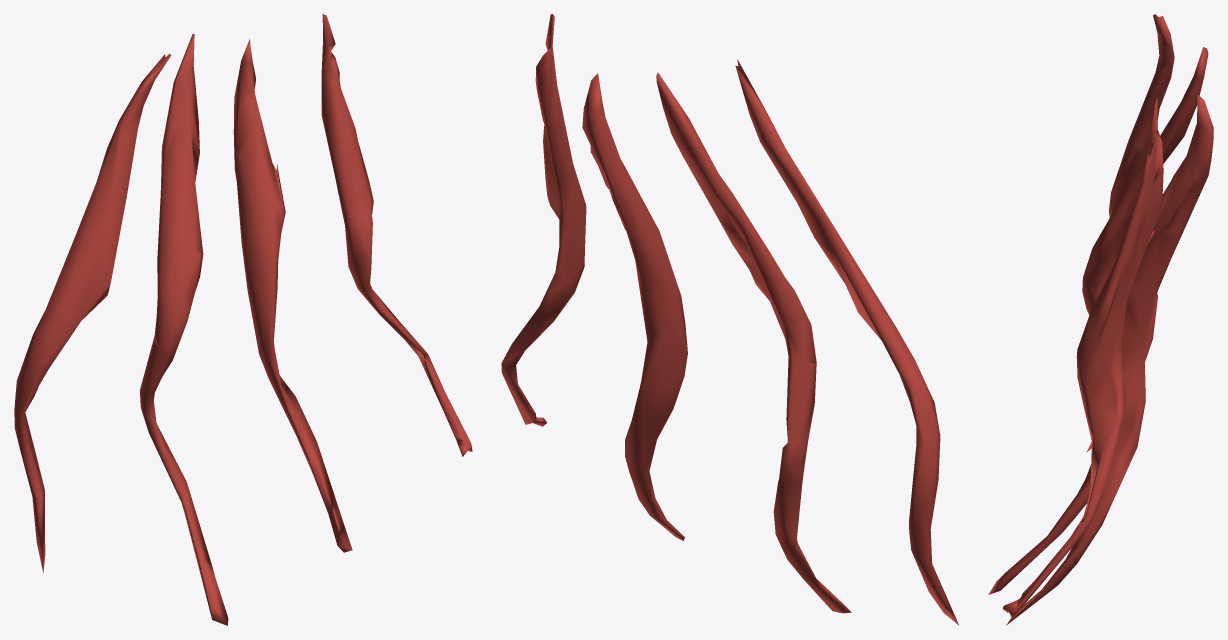
Rendered from musculos-lumbrical-muscles-of-hand-r.glb.
3 views of the same model, side by side, from view 1: azimuth 30°, elevation 25°; view 2: azimuth 150°, elevation 25°; view 3: azimuth 270°, elevation 25° (orthographic). The views are drawn at different scales.
Visible parts, largest first — view 1: Lumbrical muscles of hand.r; view 2: Lumbrical muscles of hand.r; view 3: Lumbrical muscles of hand.r.
Boxes of the visible parts, x1,y1,x2,y2 form: Lumbrical muscles of hand.r: [14, 14, 472, 625]; Lumbrical muscles of hand.r: [501, 14, 959, 625]; Lumbrical muscles of hand.r: [988, 14, 1213, 625].
Size of the model in its own units: 0.0754 by 0.0927 by 0.0321.
